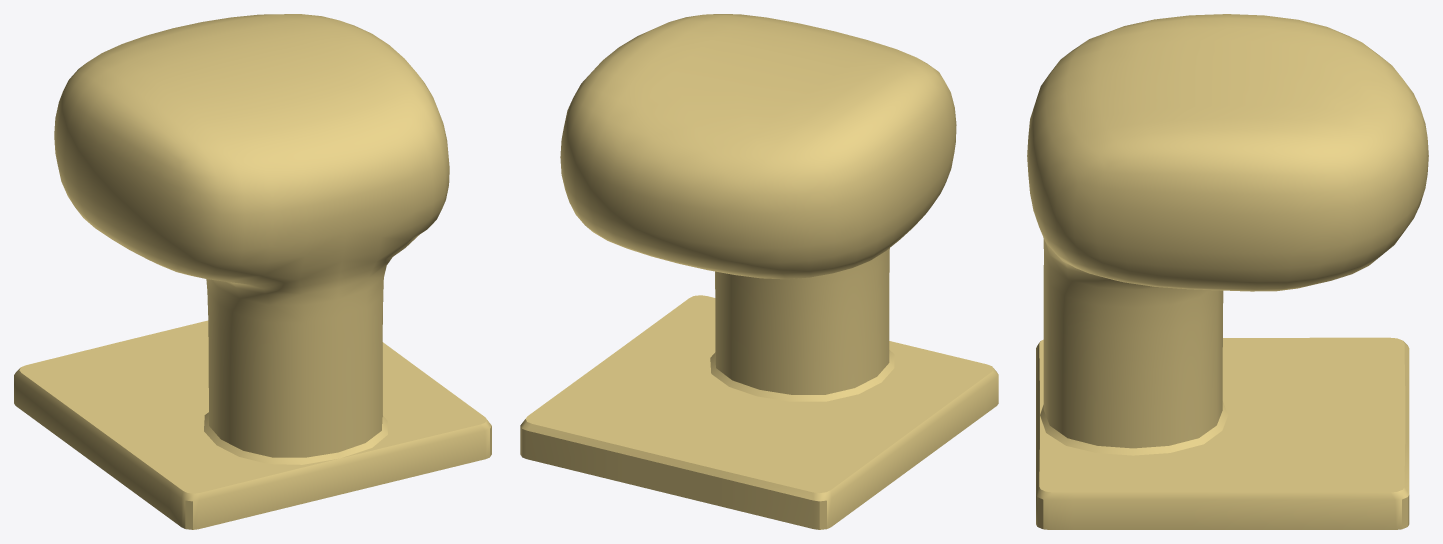
The model's file is bolard.gltf.
3 renders of one model, left to right at view 1: azimuth 30°, elevation 25°; view 2: azimuth 150°, elevation 25°; view 3: azimuth 270°, elevation 25°, orthographic. The views are drawn at different scales.
Parts seen in each view (by area): view 1: bitta01; view 2: bitta01; view 3: bitta01.
Part boxes in pixels (<box>): bitta01: <box>14,14,491,529</box>; bitta01: <box>520,14,998,529</box>; bitta01: <box>1027,14,1428,529</box>.
Bounding box in the file's own units: 8.11 × 8.88 × 8.56.
